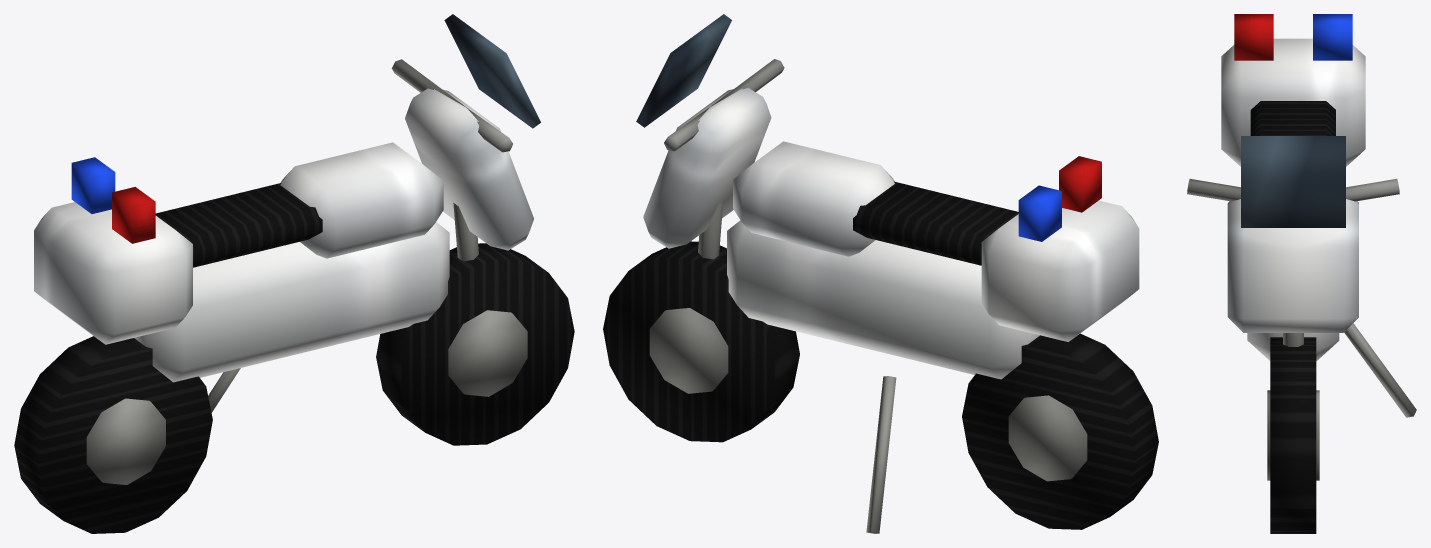
Rendered from kp_police_motor.fbx.
The picture shows the model from 3 angles, left to right: view 1: azimuth 30°, elevation 25°; view 2: azimuth 150°, elevation 25°; view 3: azimuth 270°, elevation 25°; orthographic projection. The views are drawn at different scales.
Parts seen in each view (by area): view 1: Asset_PoliceMotor; view 2: Asset_PoliceMotor; view 3: Asset_PoliceMotor.
Part boxes in pixels (<box>): Asset_PoliceMotor: <box>14,14,574,533</box>; Asset_PoliceMotor: <box>603,14,1158,533</box>; Asset_PoliceMotor: <box>1187,14,1416,533</box>.
Size of the model in its own units: 4.6 by 3.31 by 1.75.
Materials: 1 (1 with a texture image).
